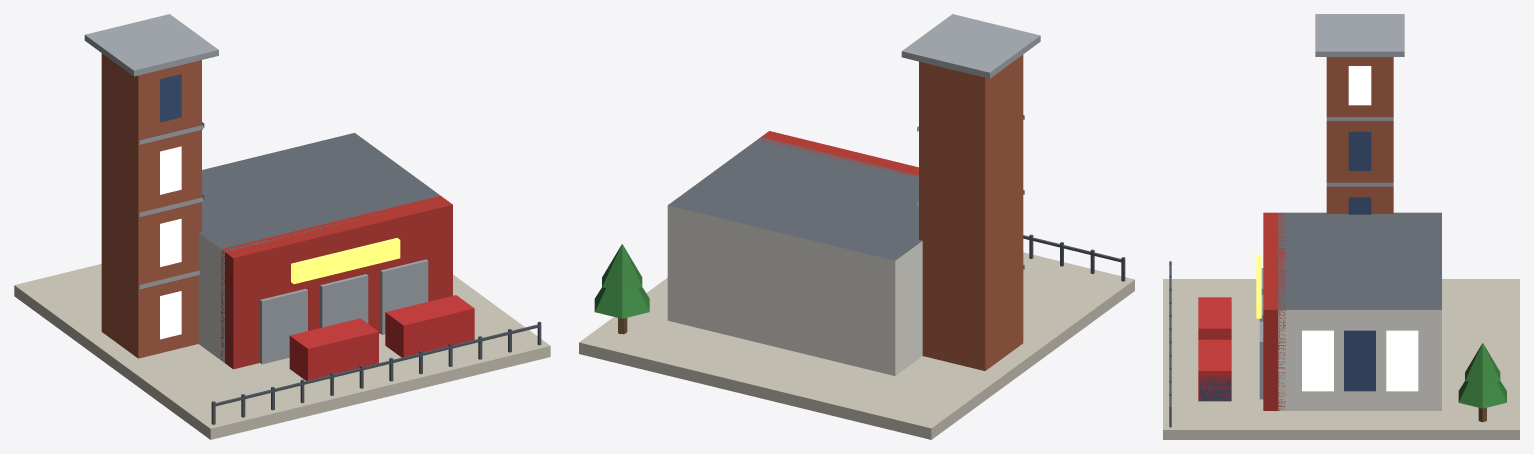
The picture shows the model from 3 angles, left to right: view 1: azimuth 30°, elevation 25°; view 2: azimuth 150°, elevation 25°; view 3: azimuth 270°, elevation 25°; orthographic projection. The views are drawn at different scales.
Parts seen in each view (by area): view 1: b30; view 2: b30; view 3: b30.
Part boxes in pixels (bbox=[...]): b30: bbox=[14, 14, 550, 439]; b30: bbox=[579, 14, 1134, 439]; b30: bbox=[1163, 14, 1519, 439].
Bounding box in the file's own units: 0.975 × 0.826 × 0.96.
